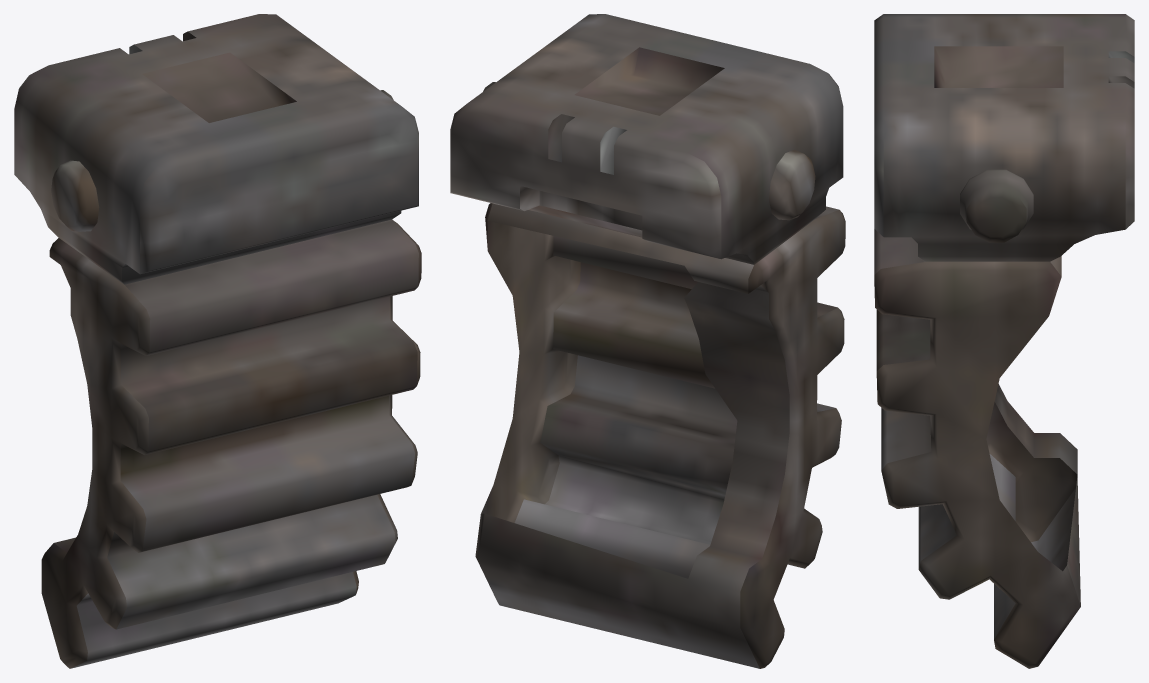
File: HeavyWeapons_Vladof_Body_Acc_2.obj
3 views of the same model, side by side, from view 1: azimuth 30°, elevation 25°; view 2: azimuth 150°, elevation 25°; view 3: azimuth 270°, elevation 25° (orthographic). The views are drawn at different scales.
Parts seen in each view (by area): view 1: Body_acc_2_main_SK_HW_VLA.025, Body_Acc_2_bolt_SK_HW_VLA.027; view 2: Body_acc_2_main_SK_HW_VLA.025, Body_Acc_2_bolt_SK_HW_VLA.027; view 3: Body_acc_2_main_SK_HW_VLA.025, Body_acc_2_bolt_SK_HW_VLA.026.
Boxes of the visible parts, bbox=[...] form: Body_acc_2_main_SK_HW_VLA.025: bbox=[14, 14, 421, 668]; Body_Acc_2_bolt_SK_HW_VLA.027: bbox=[51, 160, 99, 231]; Body_acc_2_main_SK_HW_VLA.025: bbox=[450, 14, 845, 668]; Body_Acc_2_bolt_SK_HW_VLA.027: bbox=[769, 149, 815, 220]; Body_acc_2_main_SK_HW_VLA.025: bbox=[874, 14, 1134, 668]; Body_acc_2_bolt_SK_HW_VLA.026: bbox=[960, 169, 1033, 242].
Bounding box in the file's own units: 11.68 × 19.22 × 8.43.
